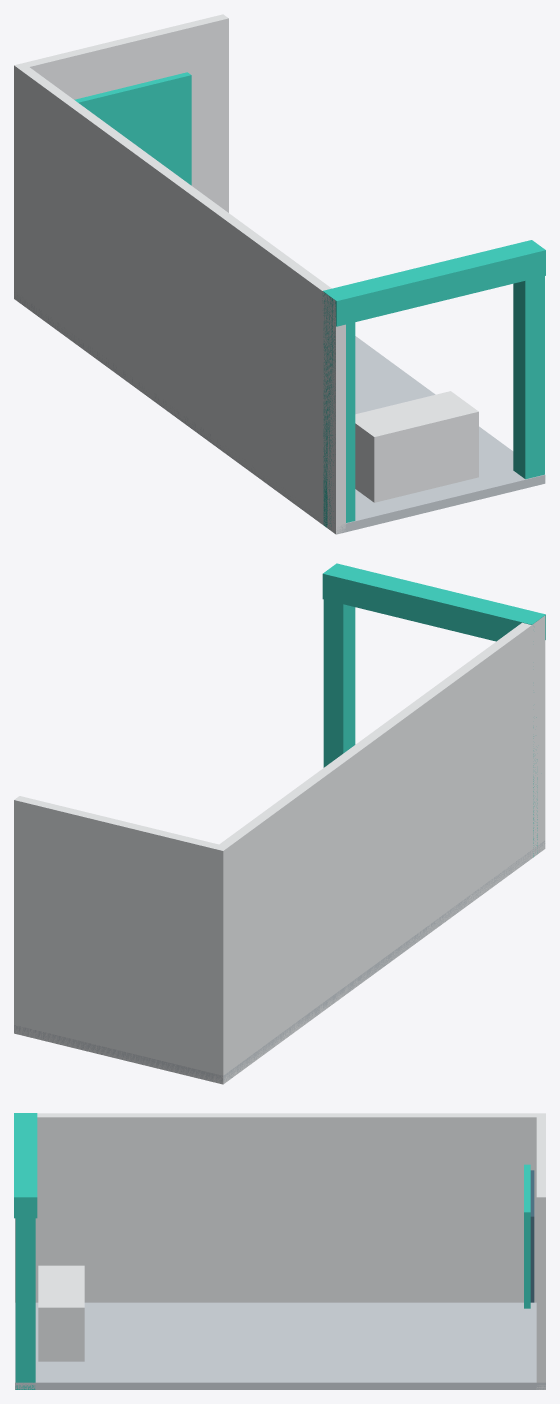
3 views of the same model, one above another, from view 1: azimuth 30°, elevation 25°; view 2: azimuth 150°, elevation 25°; view 3: azimuth 270°, elevation 25° (orthographic). The views are drawn at different scales.
Visible parts, largest first — view 1: Exhibition Booth Concept; view 2: Exhibition Booth Concept; view 3: Exhibition Booth Concept.
Boxes of the visible parts, bbox=[...] form: Exhibition Booth Concept: bbox=[14, 14, 545, 534]; Exhibition Booth Concept: bbox=[14, 563, 545, 1084]; Exhibition Booth Concept: bbox=[14, 1113, 545, 1389].
Size of the model in its own units: 3 by 3.2 by 8.01.
